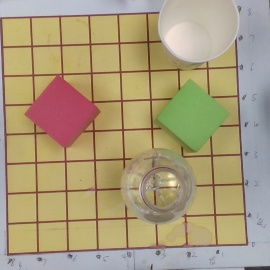bottle: (120, 149, 197, 224)
cup: (155, 1, 239, 71)
